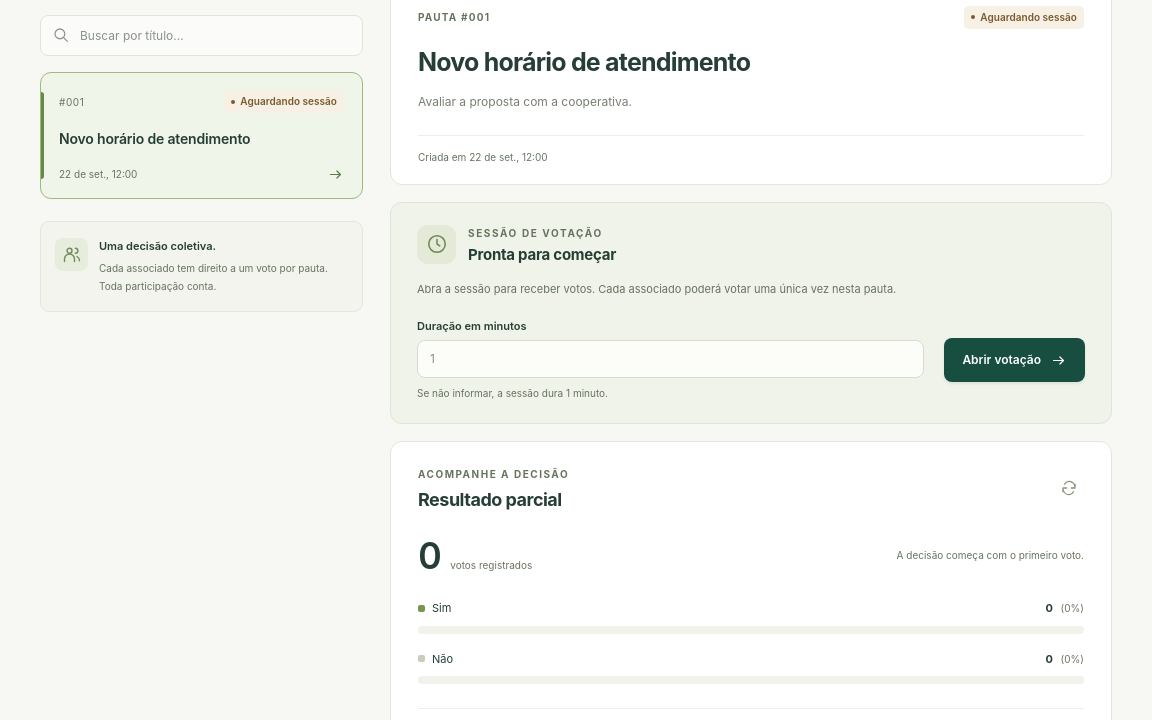
Test: fluxos da assembleia › abre a sessão omitindo a duração para usar o padrão do servidor
The width and height of the screenshot is (1152, 720).
(page scrolled)
Click the button "Abrir votação" at [1015, 360], box [944,338,1085,382]
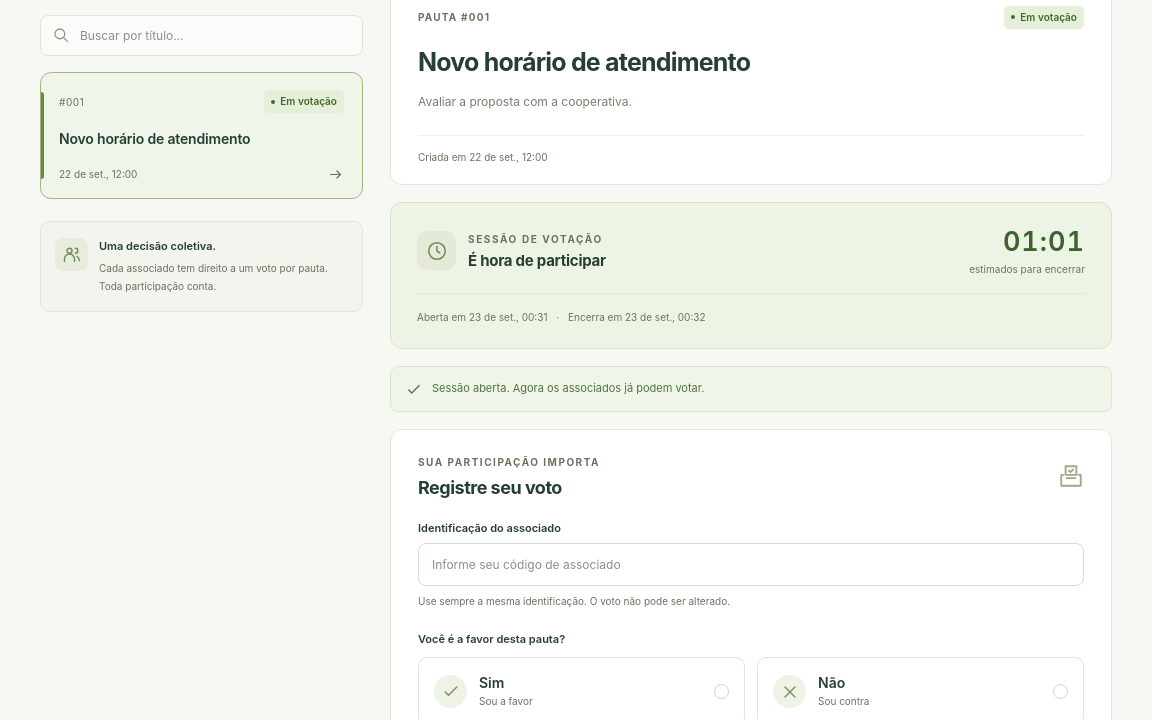
Expected: the heading "Registre seu voto" is shown, [418,477,562,498]
Expected: the text "Sessão aberta. Agora os associados já podem votar." is shown, [432,381,704,395]
